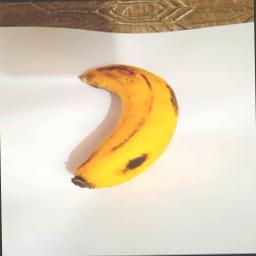Pear Rotten: (66, 60, 182, 190)
